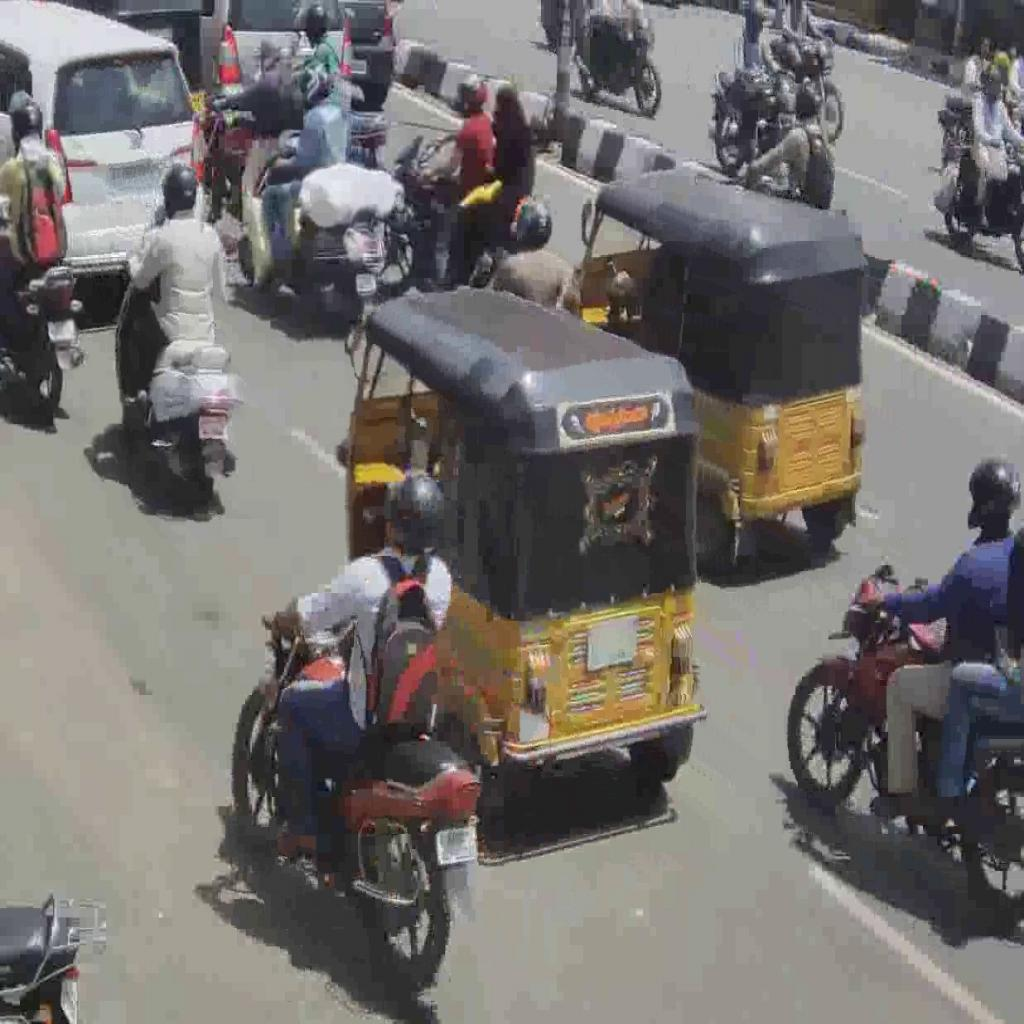bike: (230, 590, 479, 994), (787, 564, 1023, 926), (115, 222, 240, 493), (242, 128, 388, 328), (381, 133, 527, 292), (1, 213, 86, 415)
helmet: (379, 472, 449, 558), (963, 458, 1024, 534), (160, 161, 200, 218), (9, 91, 44, 149), (296, 58, 334, 110), (456, 73, 489, 115)
lisc: (436, 824, 478, 866), (198, 413, 227, 441), (48, 318, 75, 341), (356, 272, 377, 296)
no_helmet: (492, 84, 522, 126)
noise: (706, 0, 846, 211), (933, 30, 1024, 267), (574, 0, 662, 115)
rider: (262, 473, 454, 861), (857, 456, 1023, 820), (122, 160, 227, 408), (257, 58, 347, 275), (1, 91, 68, 357), (446, 85, 536, 276), (413, 72, 494, 282)
